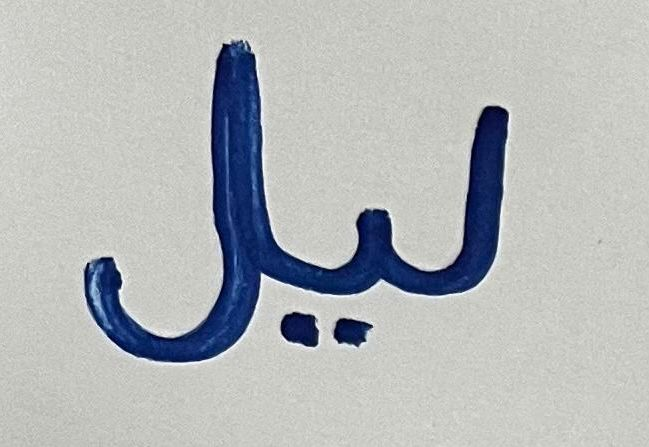lam: (54, 10, 272, 400), (410, 53, 536, 332)
yeh: (279, 169, 401, 389)
